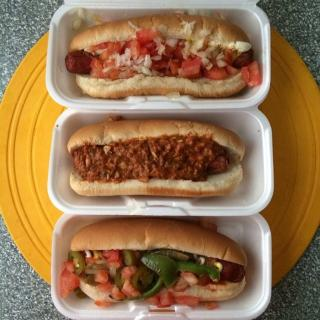tomato: (59, 268, 79, 298)
